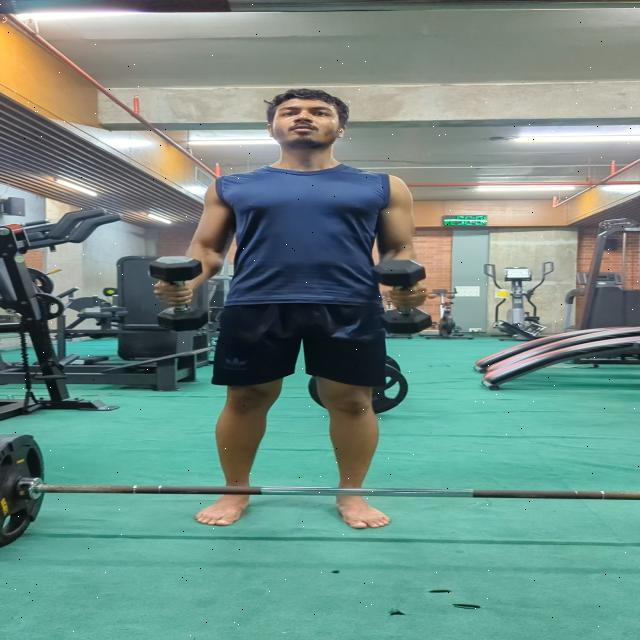Normal_DumbbellBicepCurls: (136, 85, 448, 532)
